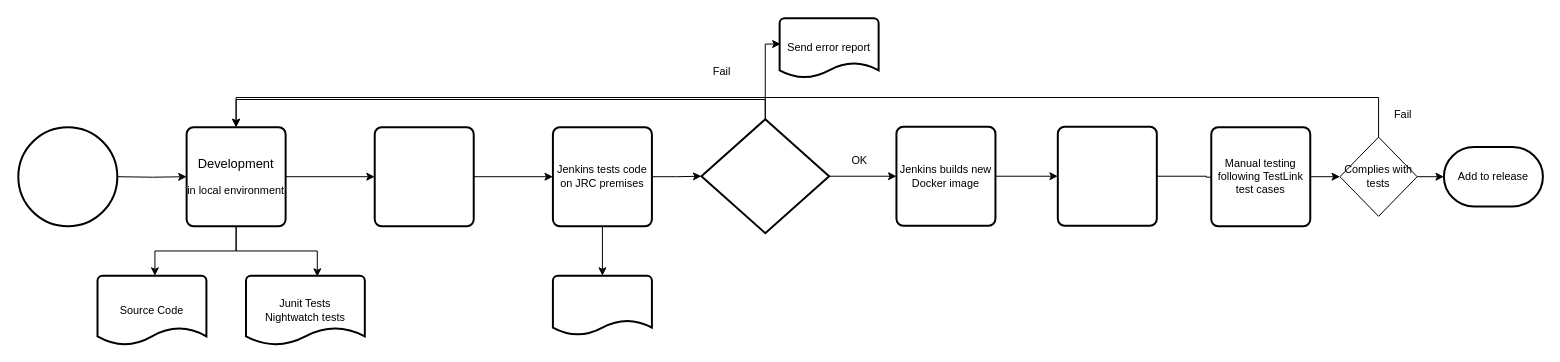
The diagram is 1560 pixels wide and 362 high, and some of its shapes have lost their labels. Here are the shapes that lost their labels. From the top down, the centre of each, then its label:
point (67, 176): New EIP/Bugfix
point (423, 176): Upload to GitHub
point (765, 176): Junit testing Nightwatch testing
point (1106, 175): Jenkins deploys Docker image to AWS
point (601, 305): SonarQube report
